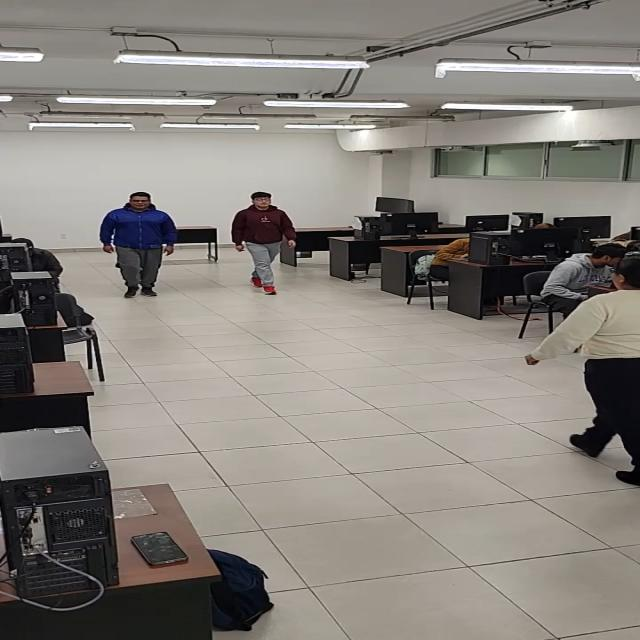Persona: (531, 255, 640, 489), (96, 188, 182, 302), (222, 187, 300, 296)
